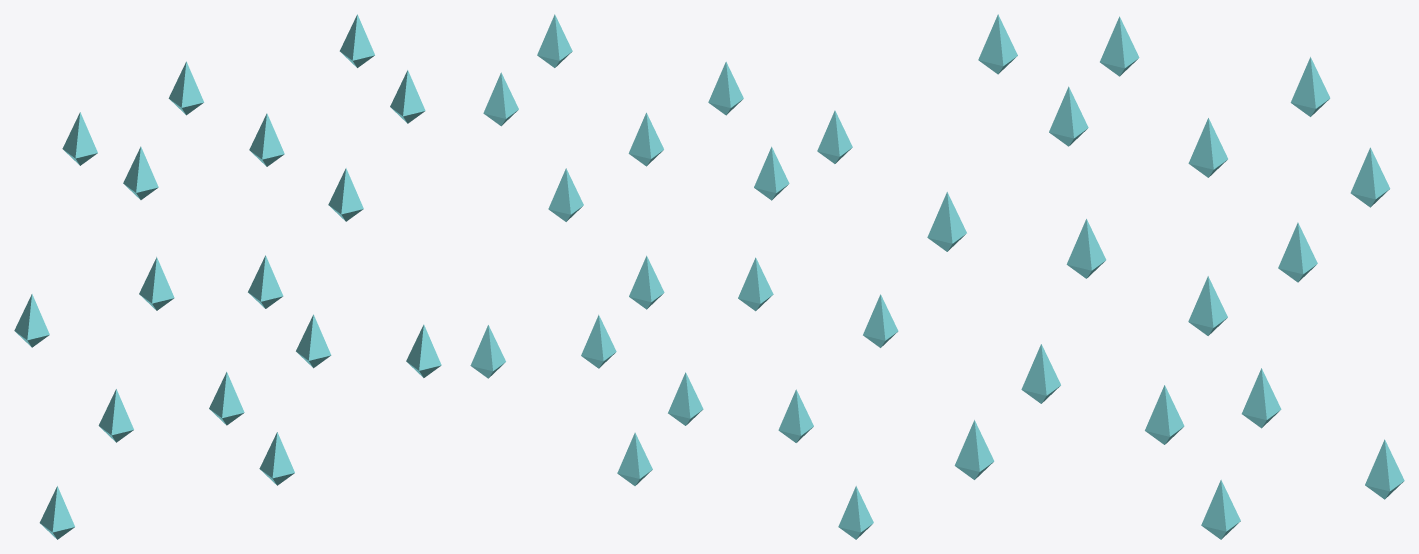
File: rain.glb
The picture shows the model from 3 angles, left to right: view 1: azimuth 30°, elevation 25°; view 2: azimuth 150°, elevation 25°; view 3: azimuth 330°, elevation 25°; orthographic projection. The views are drawn at different scales.
Visible parts, largest first — view 1: rain; view 2: rain; view 3: rain.
Part boxes in pixels (bbox=[...]): rain: bbox=[14, 14, 441, 539]; rain: bbox=[470, 14, 898, 539]; rain: bbox=[927, 14, 1404, 539].
Bounding box in the file's own units: 1.94 × 2.03 × 0.13.
1 material, 1 textured.
